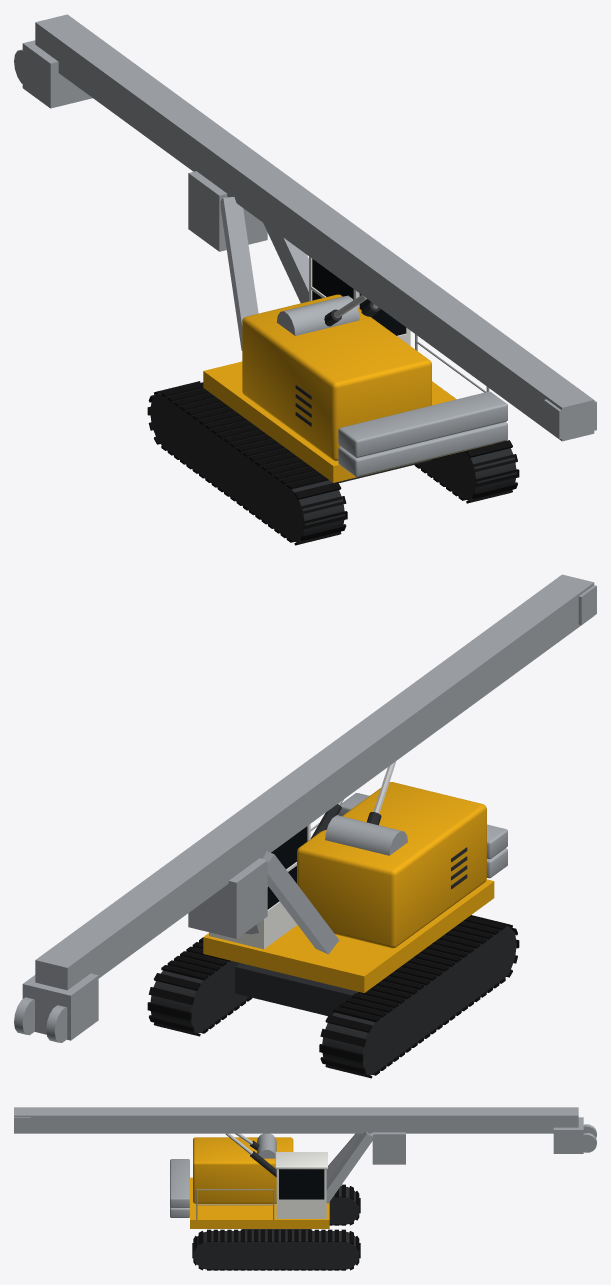
The model's file is plant.piling.rig_stowed.glb.
The picture shows the model from 3 angles, top to bottom: view 1: azimuth 30°, elevation 25°; view 2: azimuth 150°, elevation 25°; view 3: azimuth 270°, elevation 25°; orthographic projection. The views are drawn at different scales.
Parts seen in each view (by area): view 1: mast__steel_galvanised, upper__plant_yellow, tracks__steel_dark, upper__steel_galvanised, tracks__plastic_black, upper__glass_dark; view 2: mast__steel_galvanised, upper__plant_yellow, tracks__steel_dark, tracks__plastic_black, upper__steel_galvanised, upper__paint_white, upper__glass_dark; view 3: mast__steel_galvanised, upper__plant_yellow, tracks__steel_dark, tracks__plastic_black, upper__paint_white, upper__steel_galvanised, upper__glass_dark, mast__steel_dark.
Boxes of the visible parts, box(x1,y1,x2,y2) form: mast__steel_galvanised: box(14, 14, 596, 441); upper__plant_yellow: box(203, 294, 492, 482); tracks__steel_dark: box(150, 388, 516, 542); upper__steel_galvanised: box(276, 295, 507, 476); tracks__plastic_black: box(147, 381, 519, 545); upper__glass_dark: box(312, 259, 405, 335); mast__steel_galvanised: box(14, 574, 596, 1042); upper__plant_yellow: box(203, 782, 494, 992); tracks__steel_dark: box(150, 921, 516, 1075); tracks__plastic_black: box(147, 915, 519, 1078); upper__steel_galvanised: box(310, 793, 507, 878); upper__paint_white: box(209, 824, 310, 949); upper__glass_dark: box(267, 826, 307, 909); mast__steel_galvanised: box(14, 1107, 596, 1203); upper__plant_yellow: box(190, 1137, 329, 1228); tracks__steel_dark: box(193, 1186, 359, 1270); tracks__plastic_black: box(192, 1184, 360, 1270); upper__paint_white: box(275, 1152, 327, 1218); upper__steel_galvanised: box(170, 1133, 276, 1219); upper__glass_dark: box(279, 1169, 324, 1199); mast__steel_dark: box(250, 1140, 276, 1177).
Size of the model in its own units: 4 by 4.35 by 17.55.
